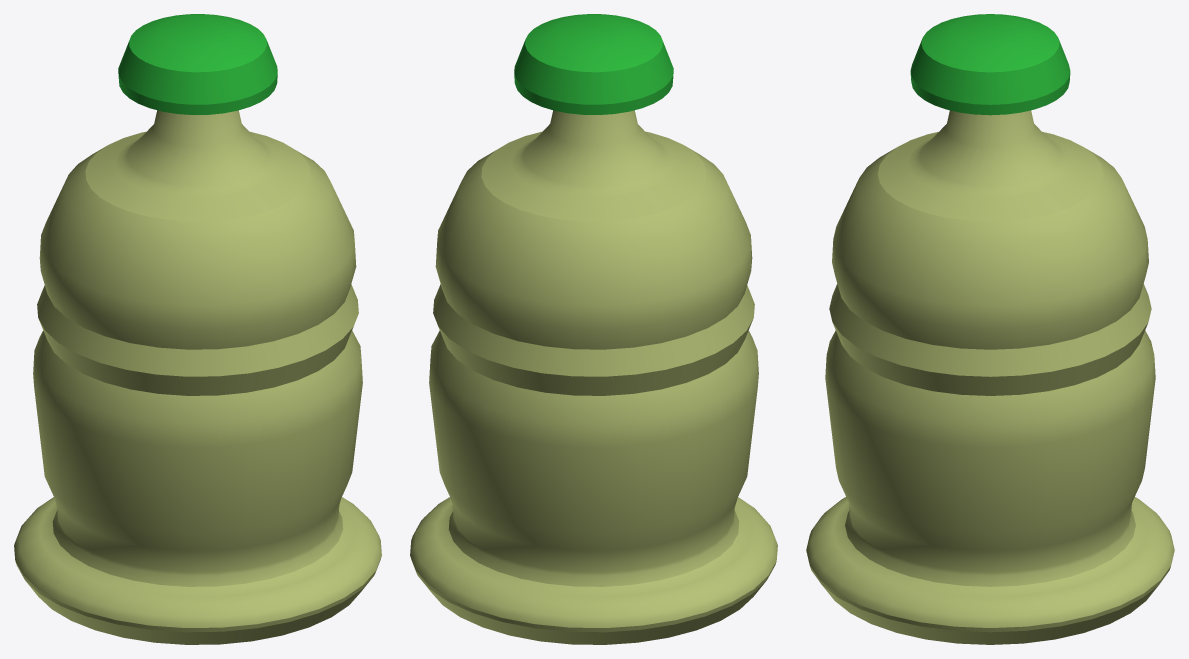
File: bottle15.glb
3 renders of one model, left to right at view 1: azimuth 30°, elevation 25°; view 2: azimuth 150°, elevation 25°; view 3: azimuth 270°, elevation 25°, orthographic.
Visible parts, largest first — view 1: Bottle15; view 2: Bottle15; view 3: Bottle15.
Boxes of the visible parts, x1,y1,x2,y2 form: Bottle15: (14,14,381,644); Bottle15: (410,14,777,644); Bottle15: (806,14,1174,644).
Size of the model in its own units: 0.2762 by 0.4492 by 0.2762.
